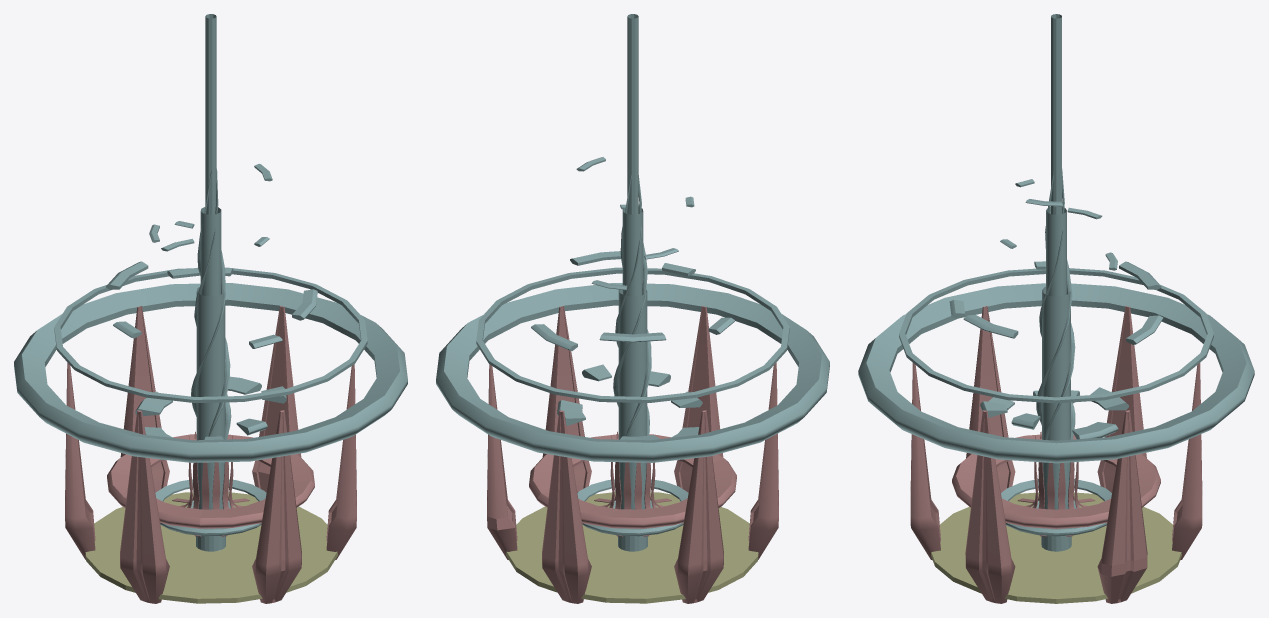
The model's file is 07-main base.fbx.
3 views of the same model, side by side, from view 1: azimuth 30°, elevation 25°; view 2: azimuth 150°, elevation 25°; view 3: azimuth 270°, elevation 25° (orthographic).
Parts seen in each view (by area): view 1: _outside_crcele, platform_Low, _building17, _building16, _top_circle, _laser_light, _building19, _building15, _building18, _building20, _laser_light5, _floating_platforms1 (+9 smaller); view 2: _outside_crcele, platform_Low, _building20, _building15, _top_circle, _laser_light, _building17, _building16, _building19, _building18, _laser_light5, _floating_platforms1 (+9 smaller); view 3: _outside_crcele, platform_Low, _building19, _building18, _top_circle, _laser_light, _building20, _building17, _building15, _building16, _laser_light5, _first_circle4 (+9 smaller).
Boxes of the visible parts, x1,y1,x2,y2 form: _outside_crcele: [14, 283, 407, 462]; platform_Low: [85, 492, 337, 603]; _building17: [252, 410, 301, 603]; _building16: [120, 410, 169, 603]; _top_circle: [54, 267, 367, 402]; _laser_light: [196, 287, 225, 509]; _building19: [252, 306, 301, 492]; _building15: [65, 362, 95, 559]; _building18: [326, 364, 356, 559]; _building20: [120, 306, 169, 492]; _laser_light5: [205, 14, 216, 214]; _floating_platforms1: [106, 261, 317, 348]; _outside_crcele: [436, 283, 829, 462]; platform_Low: [506, 492, 758, 603]; _building20: [542, 410, 591, 603]; _building15: [674, 410, 723, 603]; _top_circle: [476, 267, 789, 402]; _laser_light: [618, 289, 647, 509]; _building17: [674, 306, 723, 492]; _building16: [748, 362, 778, 559]; _building19: [487, 364, 517, 559]; _building18: [542, 306, 591, 492]; _laser_light5: [627, 14, 638, 214]; _floating_platforms1: [531, 251, 734, 350]; _outside_crcele: [858, 283, 1254, 463]; platform_Low: [931, 492, 1181, 603]; _building19: [1097, 410, 1147, 603]; _building18: [965, 410, 1015, 603]; _top_circle: [899, 268, 1213, 403]; _laser_light: [1042, 286, 1070, 509]; _building20: [1172, 363, 1202, 560]; _building17: [910, 363, 940, 560]; _building15: [1097, 306, 1146, 492]; _building16: [966, 306, 1015, 492]; _laser_light5: [1051, 14, 1061, 214]; _first_circle4: [1003, 498, 1110, 528].
Size of the model in its own units: 6715 by 10112 by 6715.
